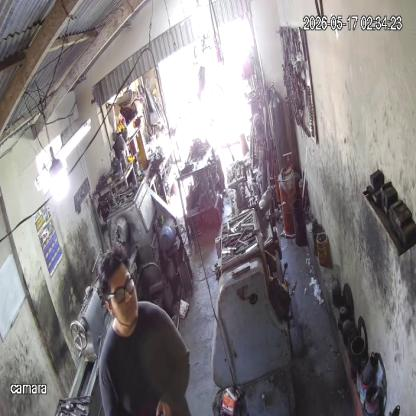lentes: (102, 274, 134, 302)
